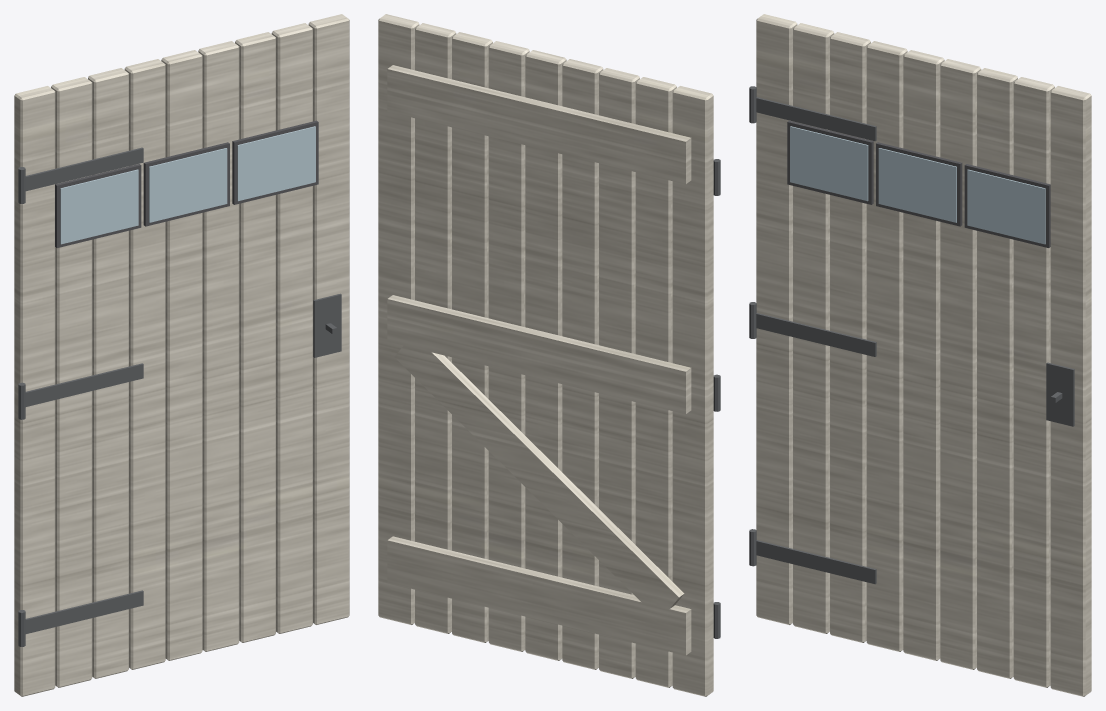
The model's file is garage_leaf.glb.
3 renders of one model, left to right at view 1: azimuth 30°, elevation 25°; view 2: azimuth 150°, elevation 25°; view 3: azimuth 330°, elevation 25°, orthographic.
Visible parts, largest first — view 1: garage_leaf_gdoor, garage_leaf_glass, garage_leaf_iron, garage_leaf_dark; view 2: garage_leaf_gdoor, garage_leaf_iron; view 3: garage_leaf_gdoor, garage_leaf_glass, garage_leaf_iron, garage_leaf_dark.
Boxes of the visible parts, left/top/right/bottom form: garage_leaf_gdoor: left=14, top=14, right=349, bottom=696; garage_leaf_glass: left=60, top=126, right=315, bottom=244; garage_leaf_iron: left=18, top=147, right=341, bottom=646; garage_leaf_dark: left=55, top=120, right=318, bottom=247; garage_leaf_gdoor: left=378, top=14, right=713, bottom=696; garage_leaf_iron: left=713, top=159, right=720, bottom=638; garage_leaf_gdoor: left=756, top=14, right=1091, bottom=696; garage_leaf_glass: left=790, top=126, right=1045, bottom=244; garage_leaf_iron: left=749, top=86, right=1074, bottom=584; garage_leaf_dark: left=787, top=120, right=1050, bottom=247.
Size of the model in its own units: 1.23 by 2.11 by 0.135.
4 materials, 1 textured.
